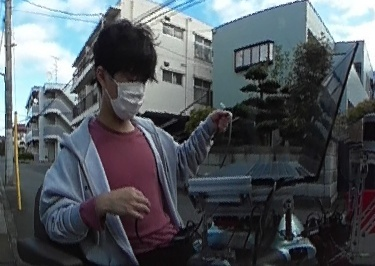person: (41, 25, 222, 266)
